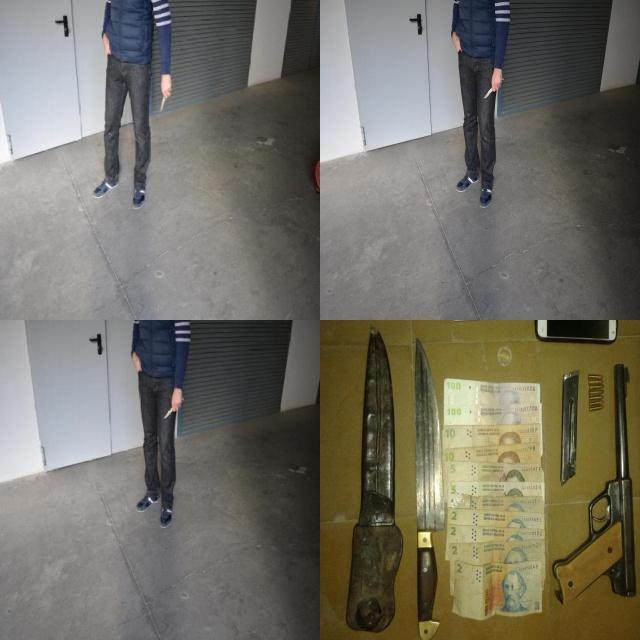-: (407, 329, 447, 636), (481, 76, 504, 100), (162, 396, 184, 420), (158, 78, 172, 115)
